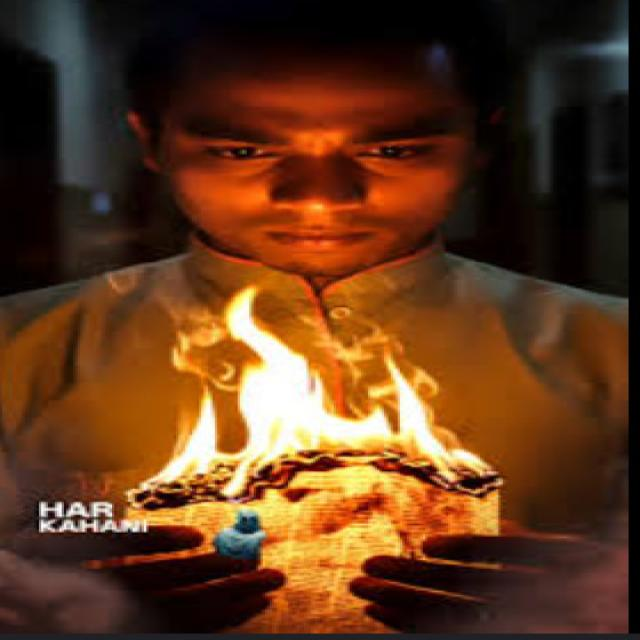fire: (136, 283, 500, 492)
